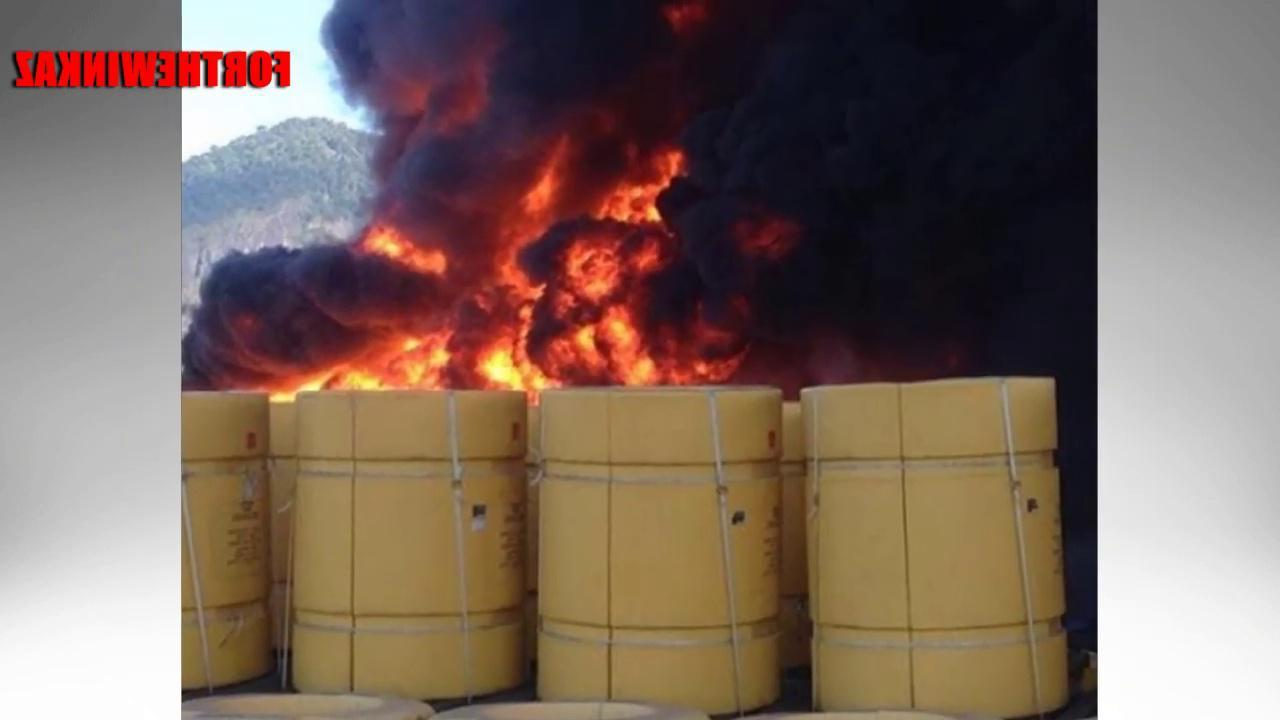Fire: (254, 147, 743, 398)
